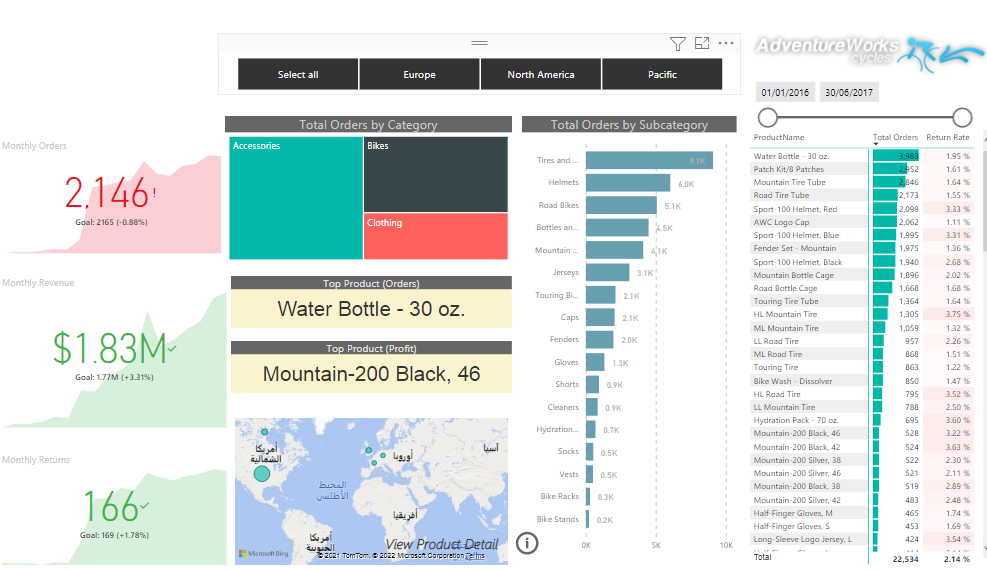

This screenshot's page, from the dashboard's own definition file:
{"tool":"powerbi","page":{"name":"Exec Summary","canvas":[1280,720],"ordinal":0},"visuals":[{"type":"map","fields":{"Category":["AW_Territories_Lookup.Country"],"Size":["AW_Sales.Total Orders"]},"box":[299.4,520.5,361.1,199.2],"z":0},{"type":"slicer","fields":{"Values":["AW_Territories_Lookup.Continent"]},"box":[282.7,56.5,672.1,54],"z":1000},{"type":"textbox","box":[492.1,670.1,259.7,37.7],"z":2000},{"type":"barChart","title":"Total Orders by Subcategory","fields":{"Y":["AW_Sales.Total Orders"],"Category":["AW_Product_Subcategory_Lookup.SubcategoryName"]},"box":[673.4,137.5,276.3,569.3],"z":3000},{"type":"treemap","title":"Total Orders by Category","fields":{"Group":["AW_Product_Category_Lookup.CategoryName","AW_Product_Subcategory_Lookup.SubcategoryName"],"Values":["AW_Sales.Total Orders"]},"box":[291.7,137.5,368.8,190.2],"z":4000},{"type":"pivotTable","fields":{"Values":["AW_Sales.Total Orders","AW_Returns.Return Rate"],"Rows":["AW_Product_Category_Lookup.CategoryName","AW_Product_Subcategory_Lookup.SubcategoryName","AW_Product_Lookup.ProductName"]},"box":[961.3,150.4,318.7,569.3],"z":5000},{"type":"slicer","fields":{"Values":["AW_Calendar_Lookup.Date"]},"box":[961.3,83.5,299.4,108],"z":6000},{"type":"kpi","title":"Monthly Revenue","fields":{"Indicator":["AW_Sales.Total Revenue"],"TrendLine":["AW_Calendar_Lookup.Start of Month"],"Goal":["AW_Sales.Prev Month Revenue"]},"box":[0,343.1,299.4,200.5],"z":7000},{"type":"kpi","title":"Monthly Orders","fields":{"TrendLine":["AW_Calendar_Lookup.Start of Month"],"Indicator":["AW_Sales.Total Orders"],"Goal":["AW_Sales.Prev Month Orders"]},"box":[0,167.1,291.7,151.6],"z":8000},{"type":"kpi","title":"Monthly Returns","fields":{"TrendLine":["AW_Calendar_Lookup.Start of Month"],"Indicator":["AW_Returns.Total Returns"],"Goal":["AW_Returns.Prev Month Returns"]},"box":[0,570.6,299.4,149.1],"z":9000},{"type":"card","title":"Top Product (Orders)","fields":{"Values":["Min(AW_Product_Lookup.ProductName)"]},"box":[299.4,343.1,361.1,66.8],"z":10000},{"type":"card","title":"Top Product (Profit)","fields":{"Values":["Min(AW_Product_Lookup.ProductName)"]},"box":[299.4,426.7,361.1,66.8],"z":11000},{"type":"actionButton","box":[661.2,666.9,59.3,38.9],"z":12000},{"type":"image","box":[961.3,0,318.7,119.5],"z":13000}]}

Visuals, with their boxes in screenshot pixels (x1, y1, x2, y2), scaled from the page's 1280x720 canvas onto the 987x570 screenshot:
map - AW_Territories_Lookup.Country x AW_Sales.Total Orders: rect(231, 412, 509, 569)
slicer - AW_Territories_Lookup.Continent: rect(218, 45, 736, 87)
textbox: rect(379, 530, 580, 560)
"Total Orders by Subcategory" barChart: rect(519, 109, 732, 560)
"Total Orders by Category" treemap: rect(225, 109, 509, 259)
pivotTable - AW_Sales.Total Orders x AW_Returns.Return Rate: rect(741, 119, 986, 569)
slicer - AW_Calendar_Lookup.Date: rect(741, 66, 972, 152)
"Monthly Revenue" kpi: rect(0, 272, 231, 430)
"Monthly Orders" kpi: rect(0, 132, 225, 252)
"Monthly Returns" kpi: rect(0, 452, 231, 569)
"Top Product (Orders)" card: rect(231, 272, 509, 325)
"Top Product (Profit)" card: rect(231, 338, 509, 391)
actionButton: rect(510, 528, 556, 559)
image: rect(741, 0, 986, 95)
